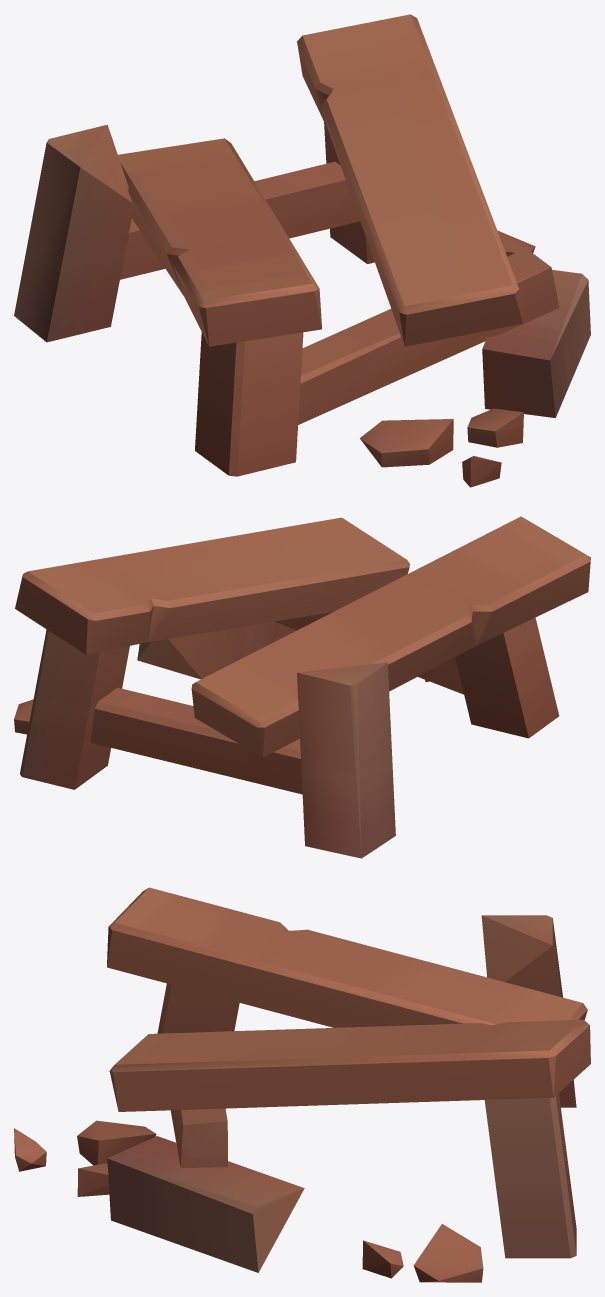
The model's file is kay-mesa-media-quebrada.gltf.
3 views of the same model, one above another, from view 1: azimuth 30°, elevation 25°; view 2: azimuth 150°, elevation 25°; view 3: azimuth 270°, elevation 25° (orthographic). The views are drawn at different scales.
Parts seen in each view (by area): view 1: table_medium_broken; view 2: table_medium_broken; view 3: table_medium_broken.
Part boxes in pixels (x1,y1,x2,y2): table_medium_broken: [14, 14, 590, 487]; table_medium_broken: [14, 516, 590, 858]; table_medium_broken: [14, 887, 590, 1282].
Bounding box in the file's own units: 1.48 × 0.6317 × 1.58.
1 material, 1 textured.
